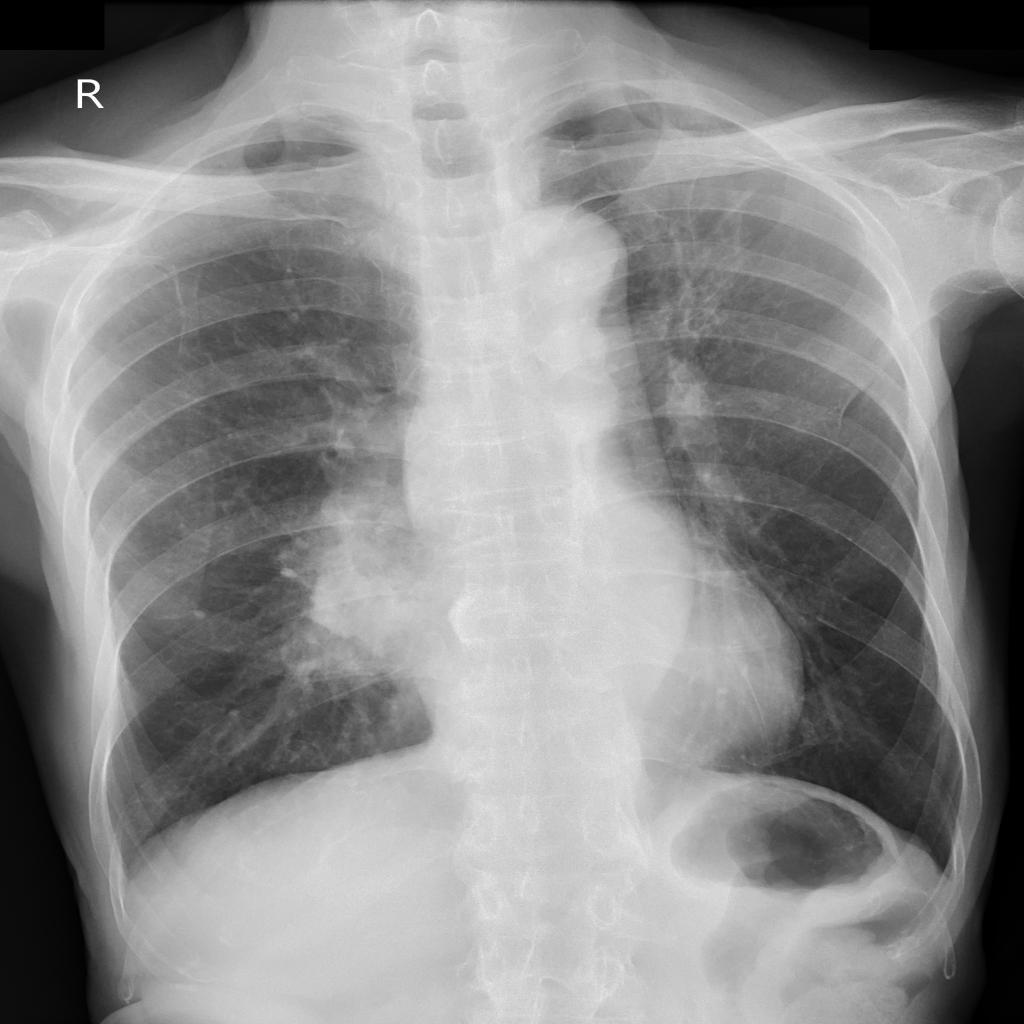Nodule: (268, 484, 430, 671), (446, 592, 532, 644)
